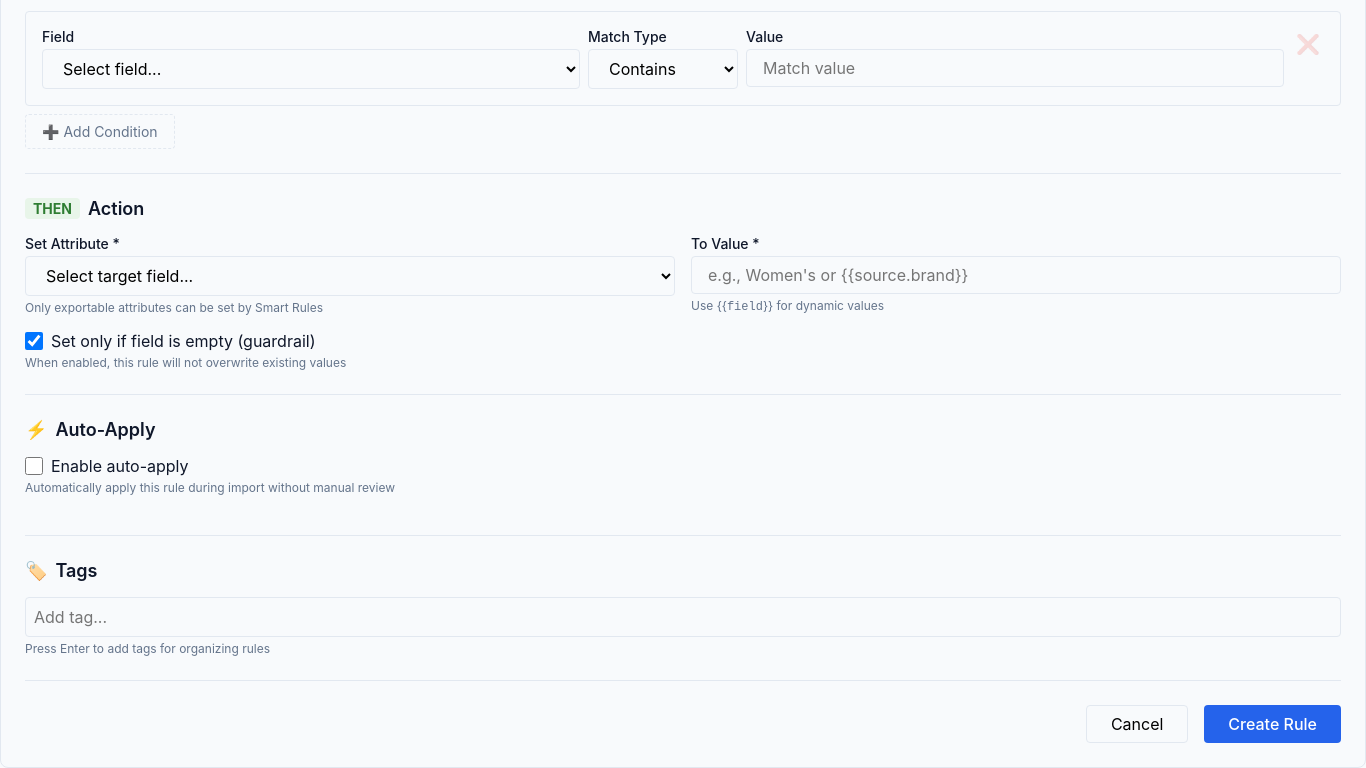
Test: RuleBuilder Component › Tags › should add a tag when pressing Enter
(page scrolled)
Type "test-tag" into the field with placeholder "Add tag..." at (683, 617), box [34,606,1332,628]
Then press Enter
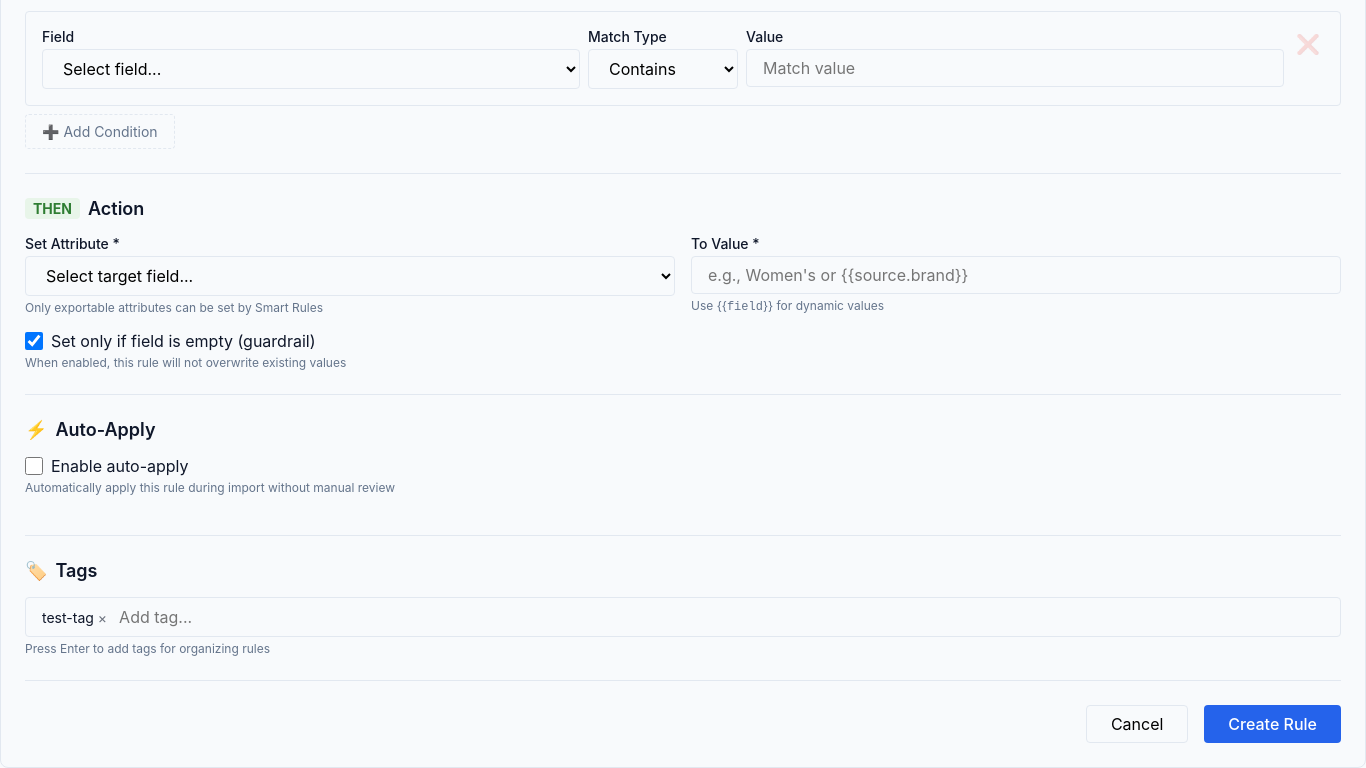
Now the text "test-tag" is shown, box [42,608,94,626]
